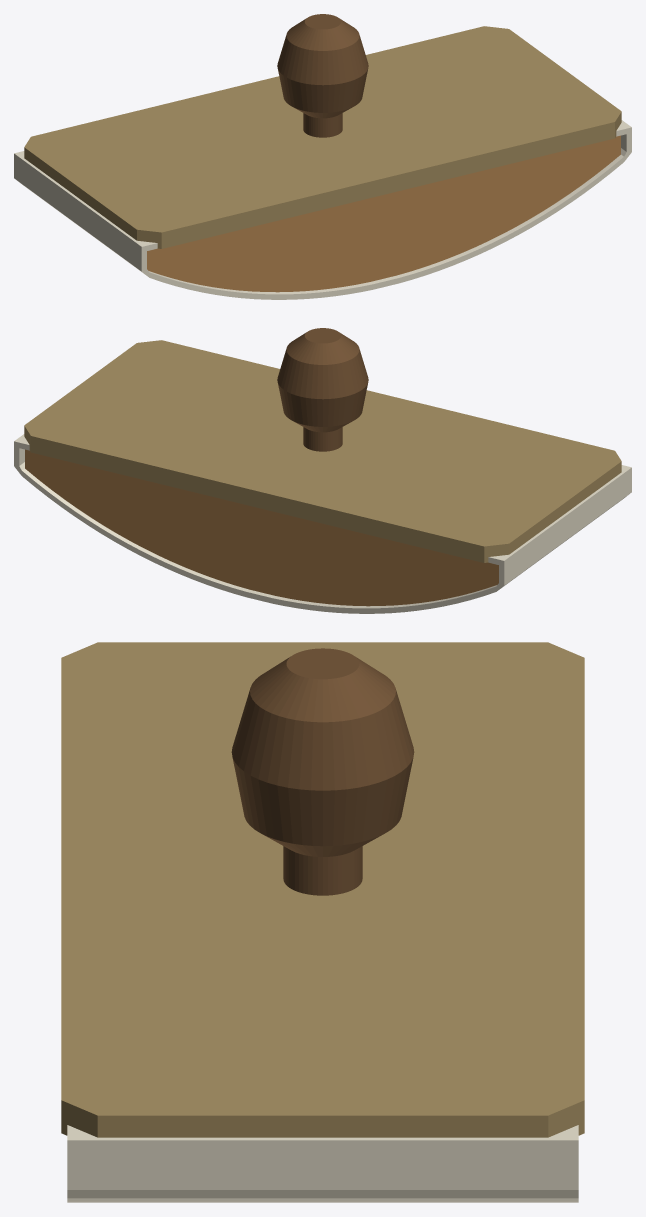
3 renders of one model, top to bottom at view 1: azimuth 30°, elevation 25°; view 2: azimuth 150°, elevation 25°; view 3: azimuth 270°, elevation 25°, orthographic. The views are drawn at different scales.
Parts seen in each view (by area): view 1: WholeChamferedUpperClampPlate, WholeConvexUndersideWoodRocker, WholeContinuousBlankUnderwrapAndBothFoldedEnds, WholeTurnedCentreKnobAndIntegralStock; view 2: WholeChamferedUpperClampPlate, WholeConvexUndersideWoodRocker, WholeContinuousBlankUnderwrapAndBothFoldedEnds, WholeTurnedCentreKnobAndIntegralStock; view 3: WholeChamferedUpperClampPlate, WholeContinuousBlankUnderwrapAndBothFoldedEnds, WholeTurnedCentreKnobAndIntegralStock.
Boxes of the visible parts, x1=… form: WholeChamferedUpperClampPlate: x1=24, y1=26, x2=621, y2=248; WholeConvexUndersideWoodRocker: x1=147, y1=135, x2=620, y2=292; WholeContinuousBlankUnderwrapAndBothFoldedEnds: x1=14, y1=120, x2=631, y2=299; WholeTurnedCentreKnobAndIntegralStock: x1=277, y1=14, x2=368, y2=137; WholeChamferedUpperClampPlate: x1=24, y1=340, x2=621, y2=562; WholeConvexUndersideWoodRocker: x1=25, y1=449, x2=498, y2=606; WholeContinuousBlankUnderwrapAndBothFoldedEnds: x1=14, y1=434, x2=631, y2=613; WholeTurnedCentreKnobAndIntegralStock: x1=277, y1=328, x2=368, y2=451; WholeChamferedUpperClampPlate: x1=61, y1=642, x2=584, y2=1137; WholeContinuousBlankUnderwrapAndBothFoldedEnds: x1=67, y1=1125, x2=578, y2=1202; WholeTurnedCentreKnobAndIntegralStock: x1=231, y1=648, x2=414, y2=895.
Size of the model in its own units: 0.186 by 0.079 by 0.086.
